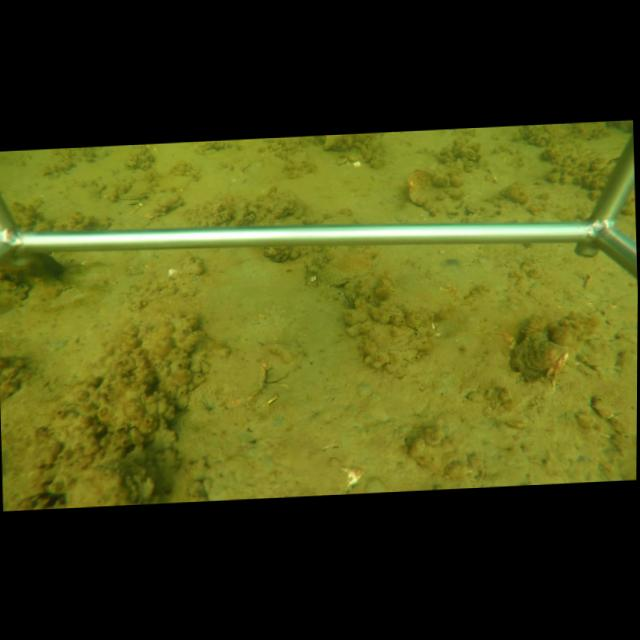Oyster-Closed: (197, 354, 269, 408), (317, 252, 374, 288)
Oyster-Indeterminate: (406, 167, 467, 213)
